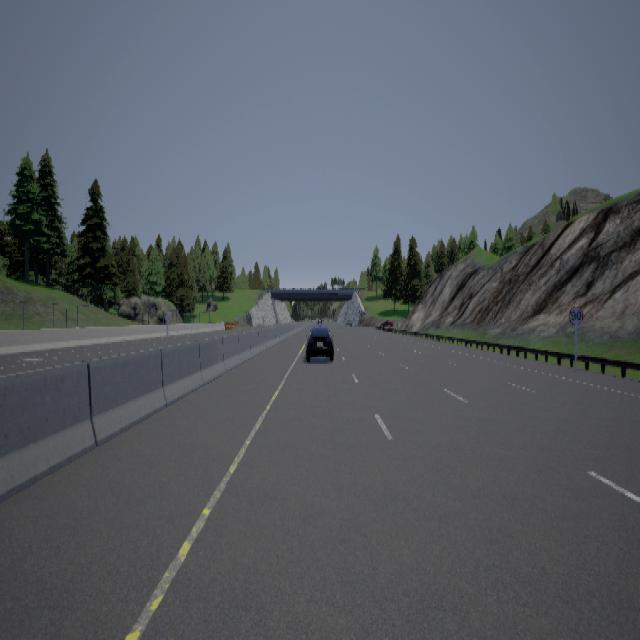traffic_sign: (568, 305, 582, 323)
vehicle: (305, 325, 333, 360)
